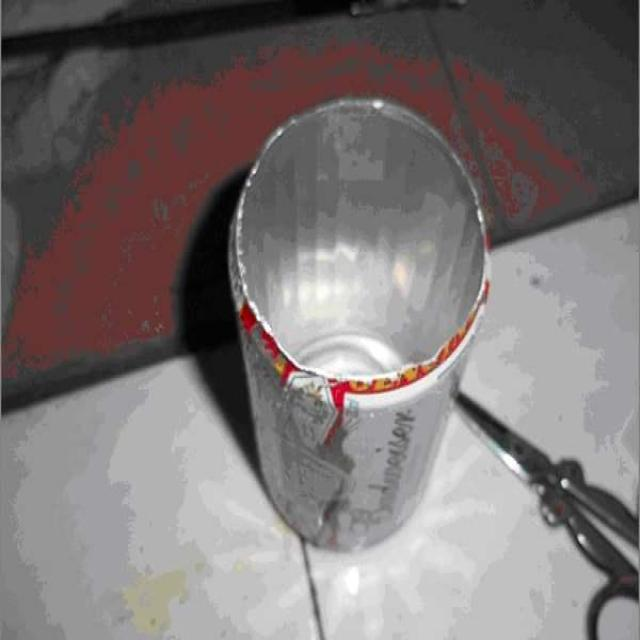-Recyclables - can-: (226, 98, 494, 551)
